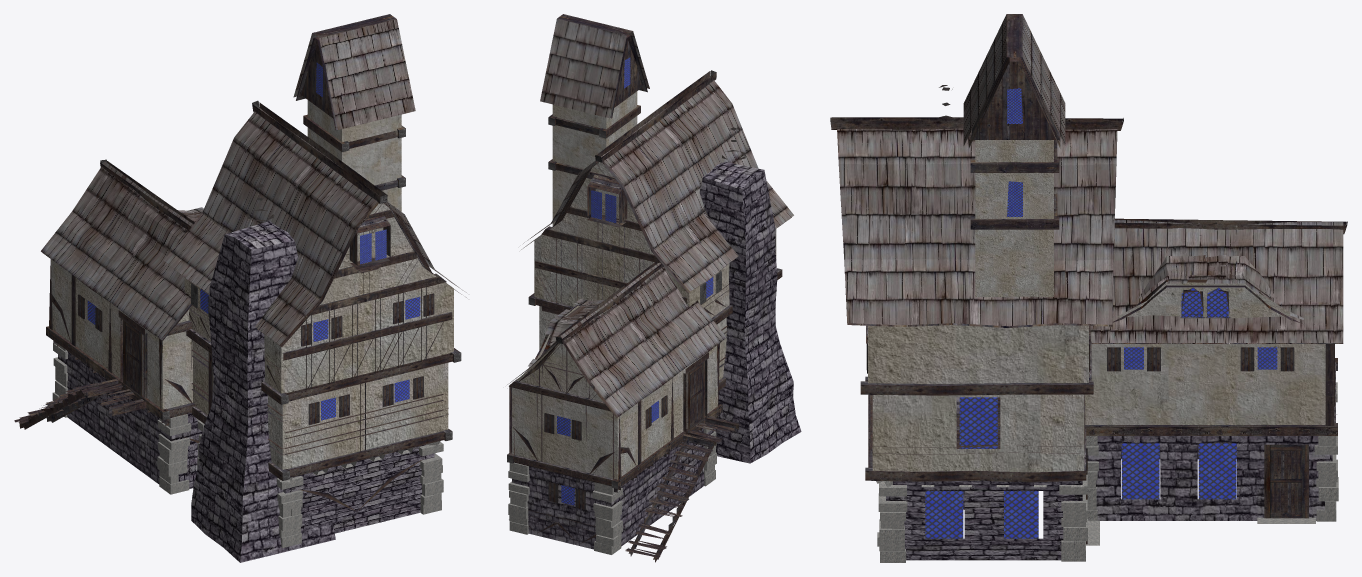
The model's file is casa_medieval_03-lod.glb.
3 views of the same model, side by side, from view 1: azimuth 30°, elevation 25°; view 2: azimuth 150°, elevation 25°; view 3: azimuth 270°, elevation 25° (orthographic). The views are drawn at different scales.
Parts seen in each view (by area): view 1: ChimneyLeft; view 2: ChimneyLeft; view 3: ChimneyLeft.
Boxes of the visible parts, <box> form: ChimneyLeft: <box>14,14,466,562</box>; ChimneyLeft: <box>507,14,801,562</box>; ChimneyLeft: <box>830,14,1347,562</box>.
Bounding box in the file's own units: 8.53 × 14.52 × 13.17.
12 materials, 12 textured.
